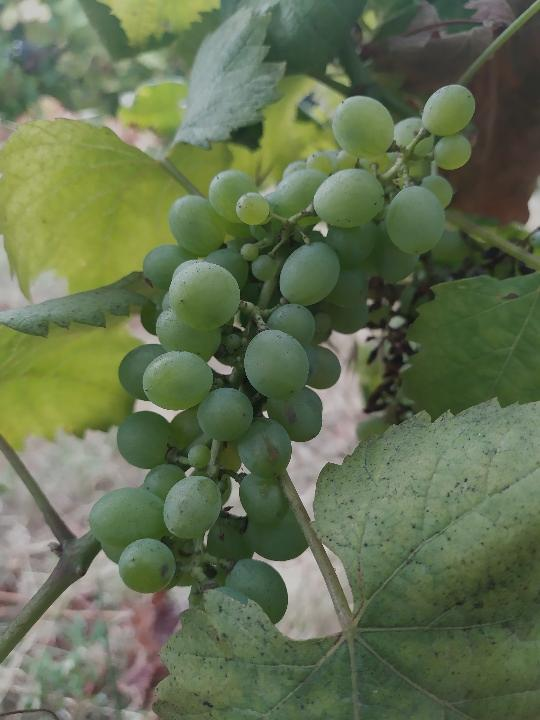grape: (85, 81, 479, 625)
